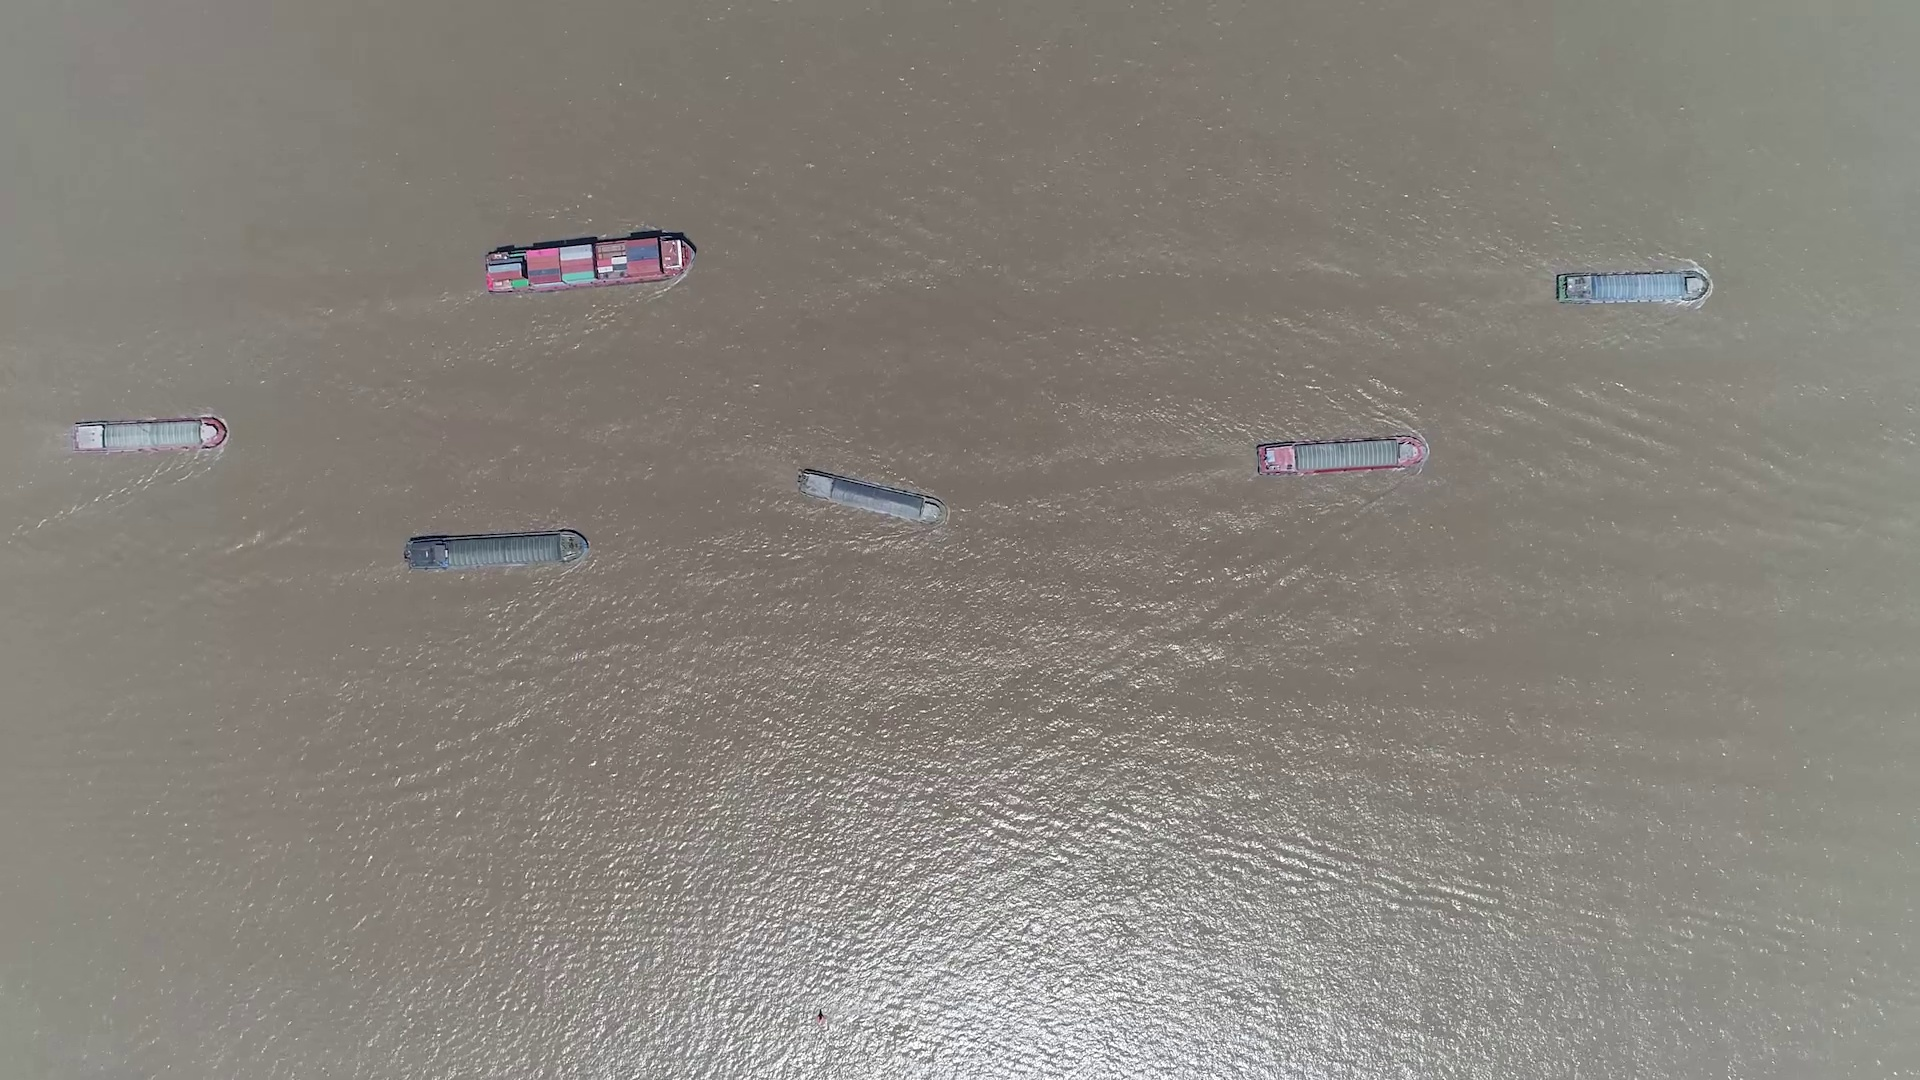ship: (484, 235, 694, 291), (796, 468, 943, 524), (404, 530, 585, 571), (1255, 435, 1427, 476), (70, 419, 225, 454), (1557, 272, 1706, 305)
